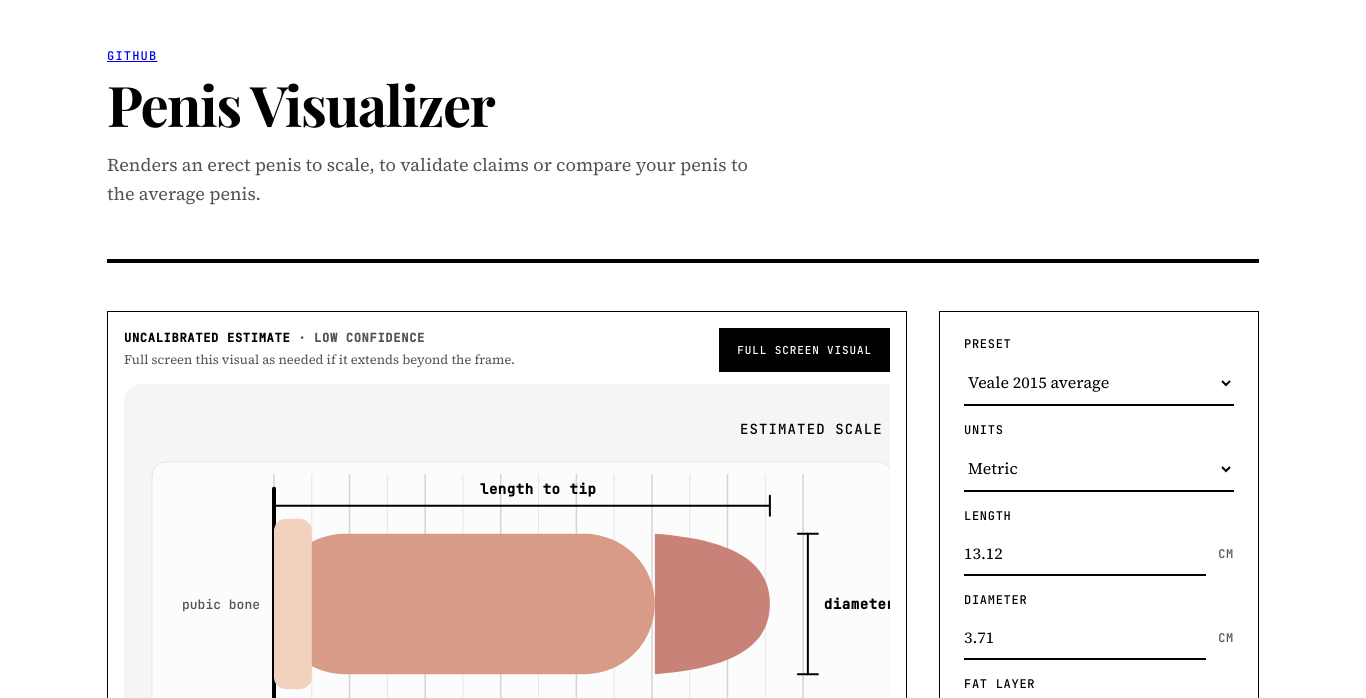
Test: App › does not replace history with invalid measurement values
Step 1. Replace the text in the number field labelled "Length" with "0" → (1085, 554), box [964, 532, 1206, 576]
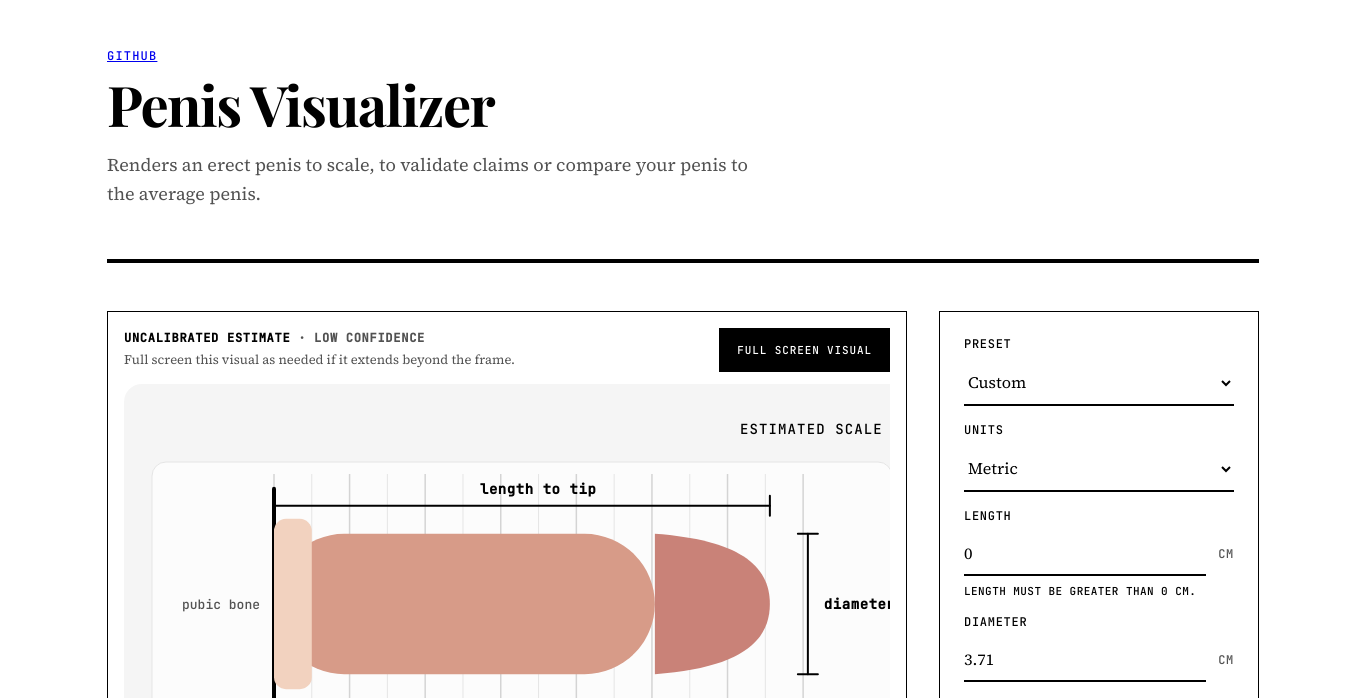
Check: the text "Length must be greater than 0 cm." is shown, box [964, 584, 1234, 598]
